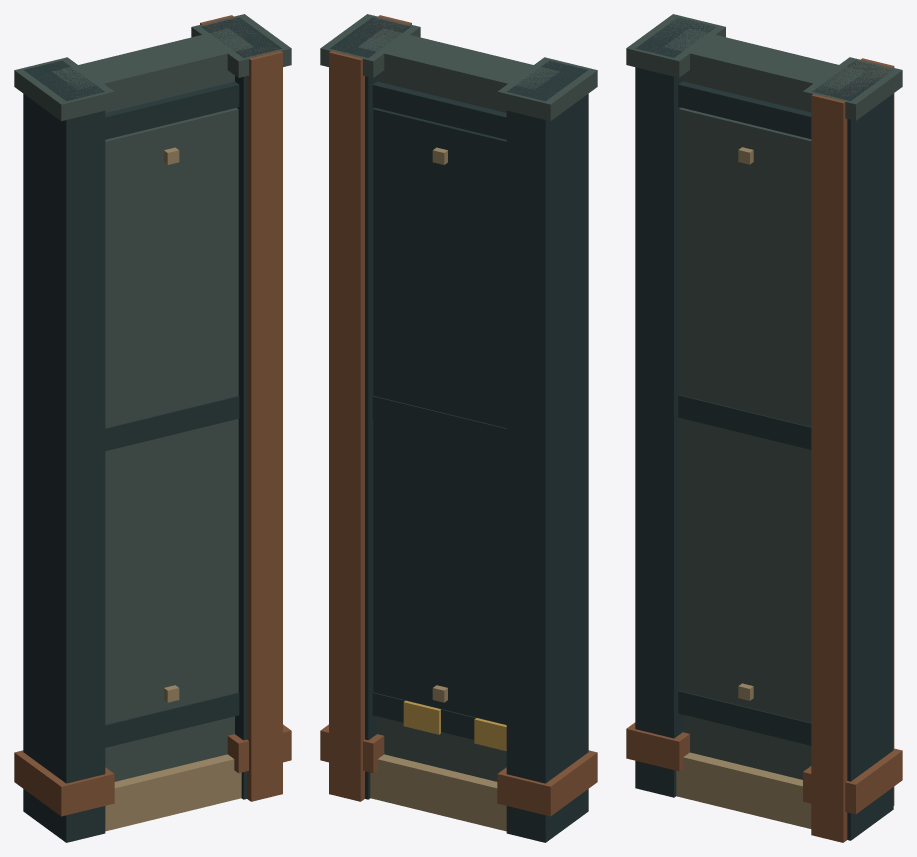
The model's file is FSA_ENV_Protected_End.glb.
3 renders of one model, left to right at view 1: azimuth 30°, elevation 25°; view 2: azimuth 150°, elevation 25°; view 3: azimuth 330°, elevation 25°, orthographic.
Visible parts, largest first — view 1: X_PlateBack0_5, X_Post0, TerminalSpine, X_ContinuousBlocker, X_Post1, X_Foot, X_Rail3_78, X_Collar0, X_Rail2_1, X_Rail0_5, X_Cap0, X_Cap1 (+1 smaller); view 2: X_Plate0_5, X_Post0, TerminalSpine, X_ContinuousBlocker, X_Post1, X_Foot, X_Rail3_78, X_Collar0, X_Rail2_1, X_Cap0, X_Rail0_5, X_Cap1 (+3 smaller); view 3: X_PlateBack0_5, X_Post1, X_Post0, TerminalSpine, X_ContinuousBlocker, X_Foot, X_Rail3_78, X_Cap1, X_Rail0_5, X_Rail2_1, X_Cap0, X_Collar1 (+1 smaller).
Part boxes in pixels (box(x1,y1,x2,y2)): X_PlateBack0_5: box(105, 108, 238, 724); X_Post0: box(23, 60, 105, 842); TerminalSpine: box(200, 15, 282, 801); X_ContinuousBlocker: box(52, 28, 253, 781); X_Post1: box(201, 17, 281, 799); X_Foot: box(105, 754, 241, 831); X_Rail3_78: box(105, 81, 239, 139); X_Collar0: box(14, 750, 114, 816); X_Rail2_1: box(105, 396, 239, 451); X_Rail0_5: box(105, 692, 239, 747); X_Cap0: box(14, 57, 114, 121); X_Cap1: box(191, 14, 291, 77); X_Plate0_5: box(373, 108, 506, 724); X_Post0: box(506, 60, 588, 842); TerminalSpine: box(329, 15, 411, 801); X_ContinuousBlocker: box(358, 28, 559, 781); X_Post1: box(330, 17, 410, 799); X_Foot: box(370, 754, 506, 831); X_Rail3_78: box(372, 81, 506, 139); X_Collar0: box(497, 750, 597, 816); X_Rail2_1: box(372, 396, 506, 451); X_Cap0: box(497, 57, 597, 121); X_Rail0_5: box(372, 692, 505, 739); X_Cap1: box(320, 14, 420, 77); X_PlateBack0_5: box(679, 107, 811, 722); X_Post1: box(812, 60, 893, 840); X_Post0: box(635, 17, 716, 797); TerminalSpine: box(811, 58, 894, 842); X_ContinuousBlocker: box(664, 28, 864, 779); X_Foot: box(676, 752, 811, 828); X_Rail3_78: box(678, 81, 811, 138); X_Cap1: box(803, 57, 902, 120); X_Rail0_5: box(678, 690, 811, 745); X_Rail2_1: box(678, 395, 811, 449); X_Cap0: box(626, 14, 725, 77); X_Collar1: box(803, 748, 902, 814).
Size of the model in its own units: 1.3 by 4 by 0.5.
